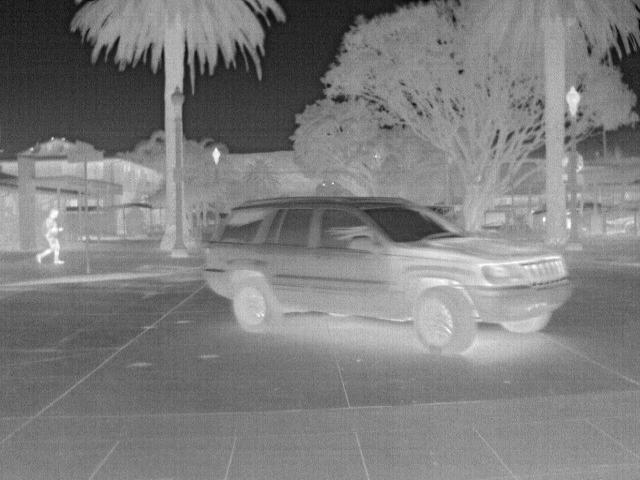car: (200, 192, 574, 357), (607, 213, 638, 234)
person: (36, 207, 65, 267)
